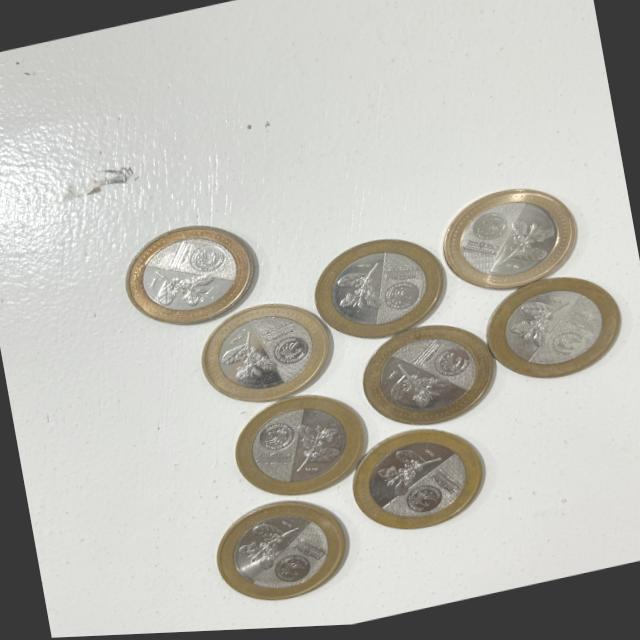20_New_Back: (212, 325, 278, 393), (233, 513, 304, 574), (372, 445, 446, 503), (490, 216, 560, 275), (284, 416, 346, 479), (332, 263, 398, 319), (388, 357, 452, 414), (512, 299, 578, 353), (149, 263, 211, 313)
